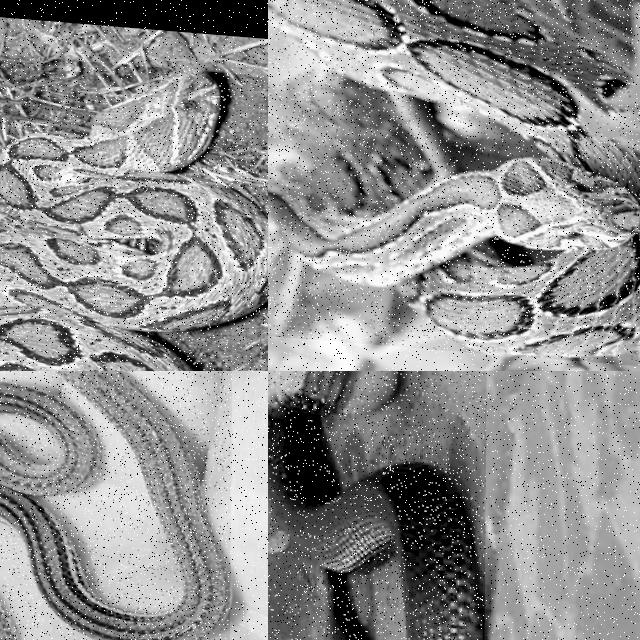Calliophis intestinalis: (0, 371, 230, 639)
Daboia siamensis: (268, 0, 639, 356), (0, 69, 267, 370)
Naja kaouthia: (268, 371, 484, 639)
snake: (268, 0, 639, 356), (0, 69, 267, 370), (0, 371, 230, 639), (268, 371, 484, 639)
